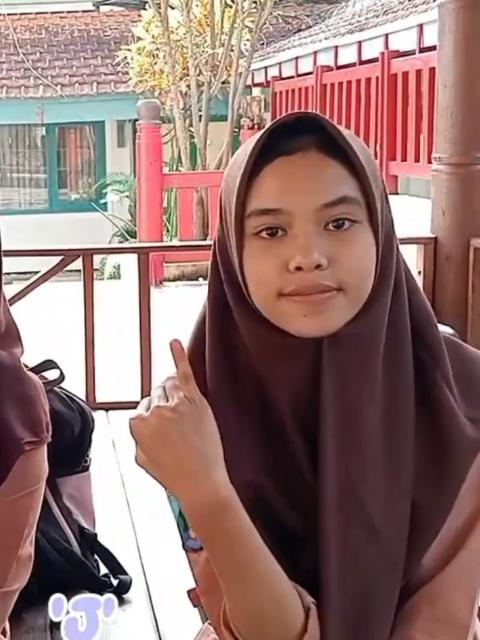J: (126, 338, 232, 502)
